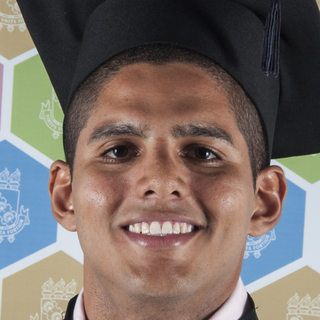eye: (174, 141, 231, 169), (93, 139, 143, 167)
